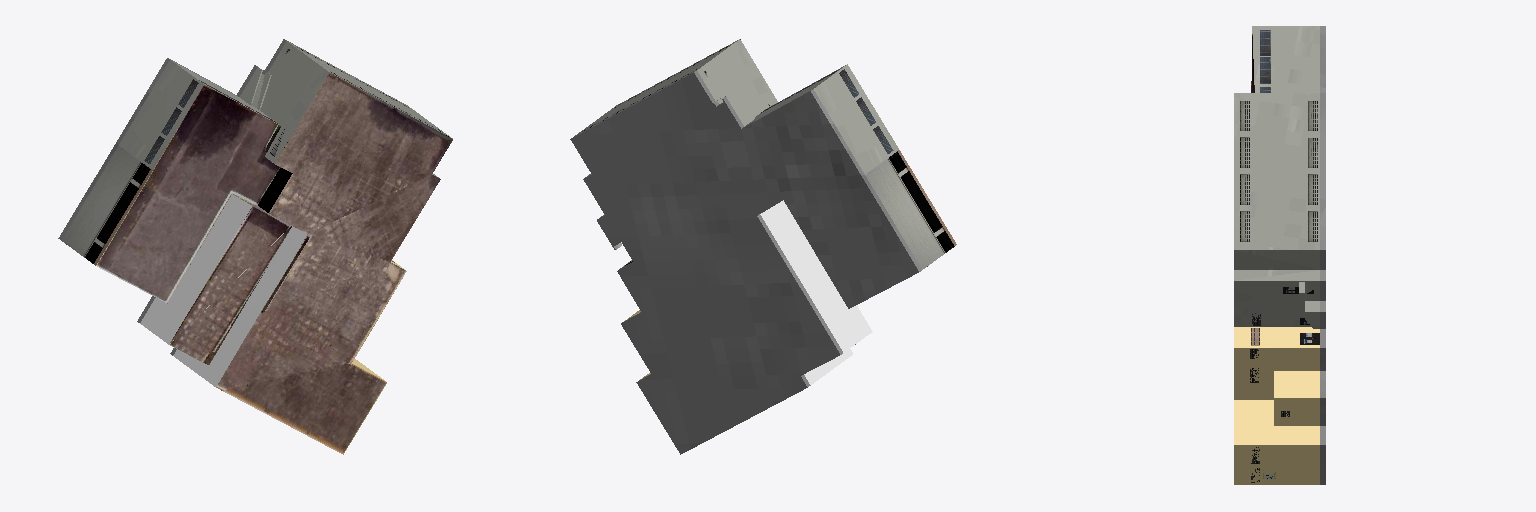
3 views of the same model, side by side, from view 1: azimuth 30°, elevation 25°; view 2: azimuth 150°, elevation 25°; view 3: azimuth 270°, elevation 25° (orthographic).
Visible parts, largest first — view 1: polygon.764; view 2: polygon.764; view 3: polygon.764.
Part boxes in pixels (bbox=[...]): polygon.764: bbox=[58, 39, 452, 454]; polygon.764: bbox=[570, 39, 956, 454]; polygon.764: bbox=[1234, 26, 1325, 484].
Size of the model in its own units: 34.41 by 37.23 by 7.87.
Materials: 1 (1 with a texture image).